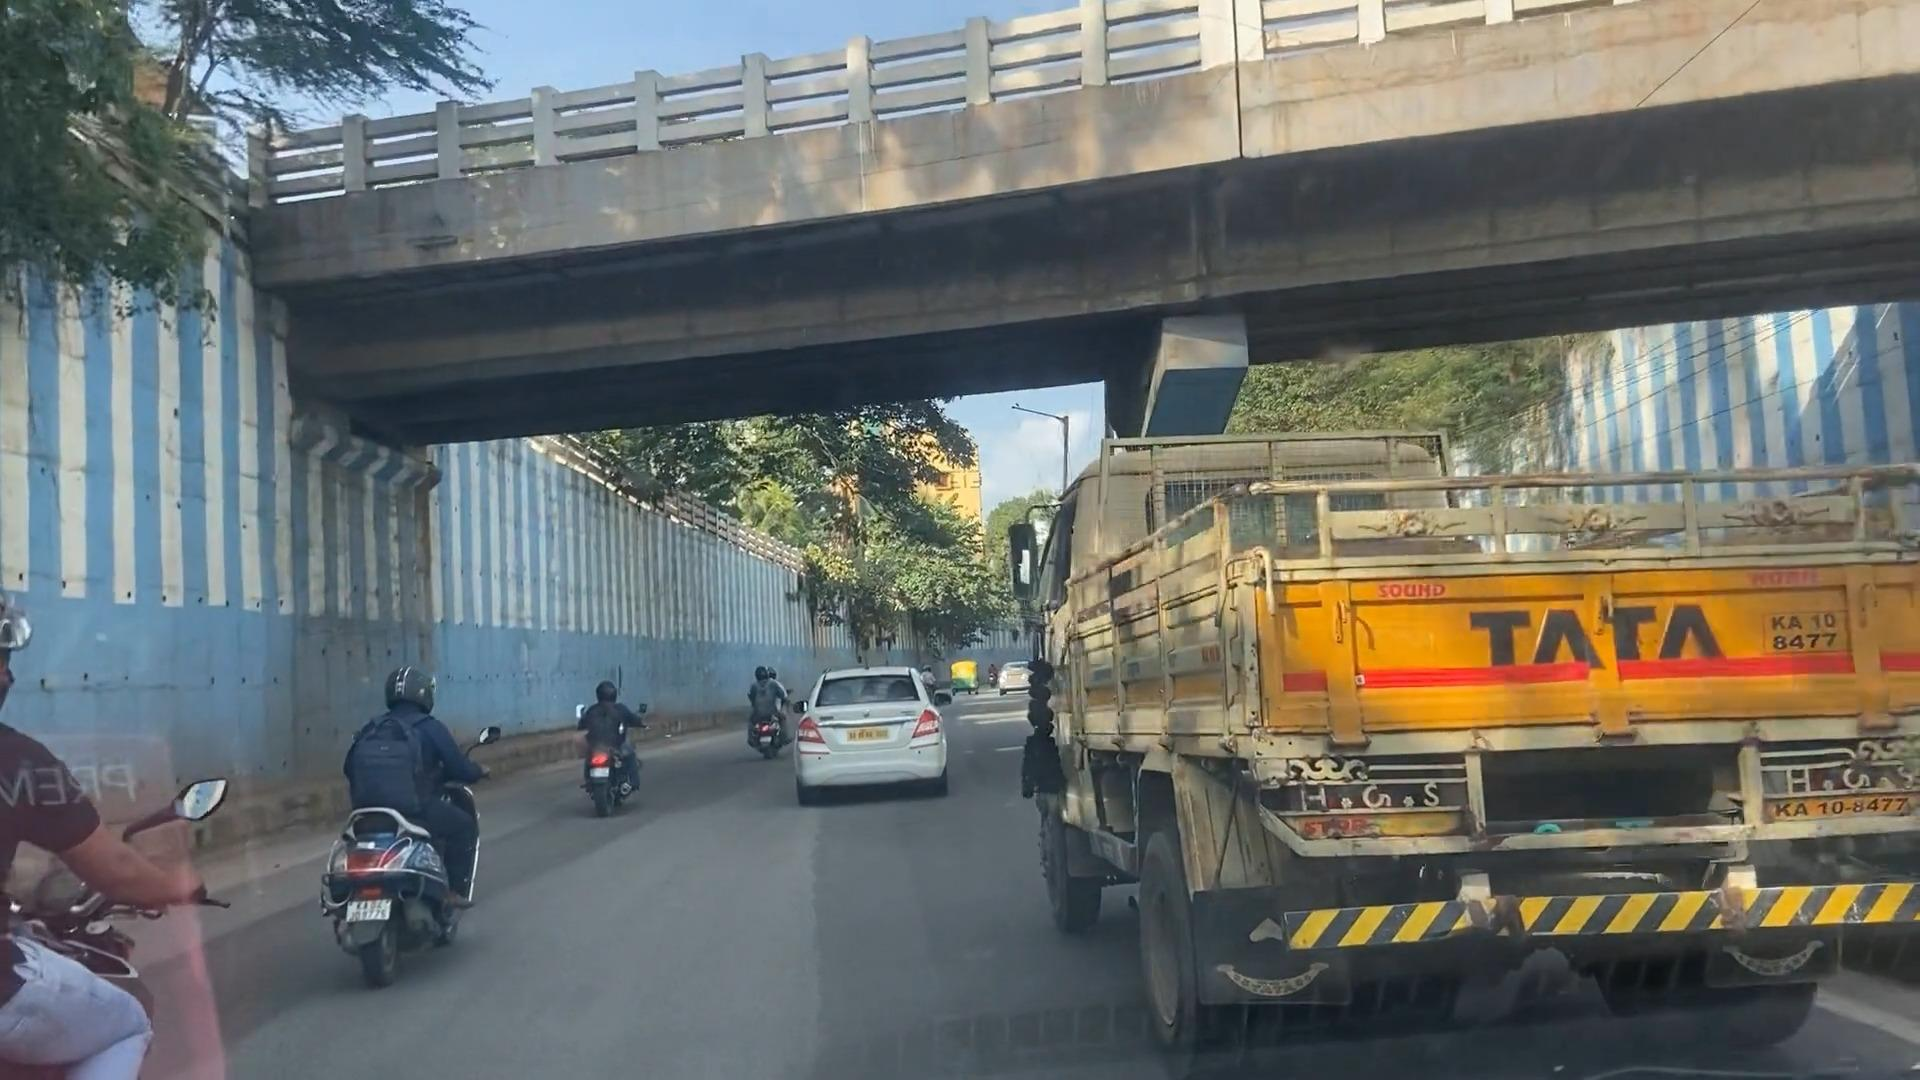HMV: (1034, 429, 1898, 1043)
LMV: (332, 670, 468, 981), (798, 670, 931, 802)
